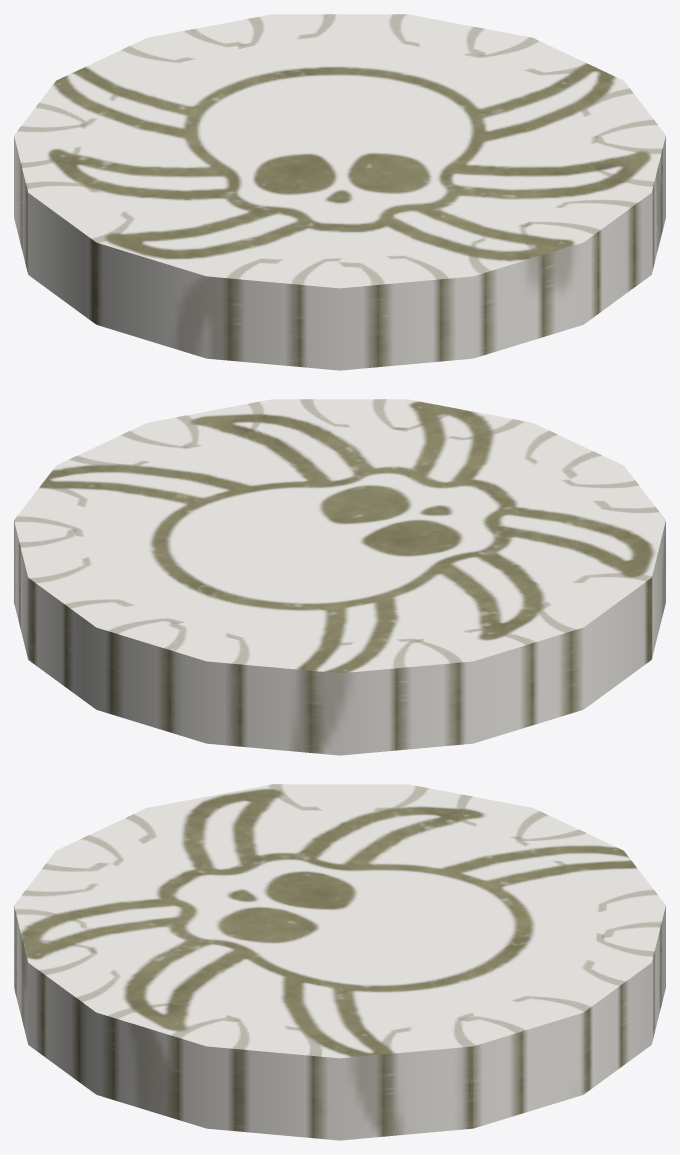
Rendered from Silver.fbx.
The picture shows the model from 3 angles, top to bottom: view 1: azimuth 30°, elevation 25°; view 2: azimuth 150°, elevation 25°; view 3: azimuth 270°, elevation 25°; orthographic projection.
Visible parts, largest first — view 1: pCylinder1; view 2: pCylinder1; view 3: pCylinder1.
Boxes of the visible parts, left/top/right/bottom form: pCylinder1: left=14, top=14, right=665, bottom=370; pCylinder1: left=14, top=399, right=665, bottom=755; pCylinder1: left=14, top=784, right=665, bottom=1140.
Bounding box in the file's own units: 1.98 × 0.2768 × 1.99.
Materials: 1 (1 with a texture image).
